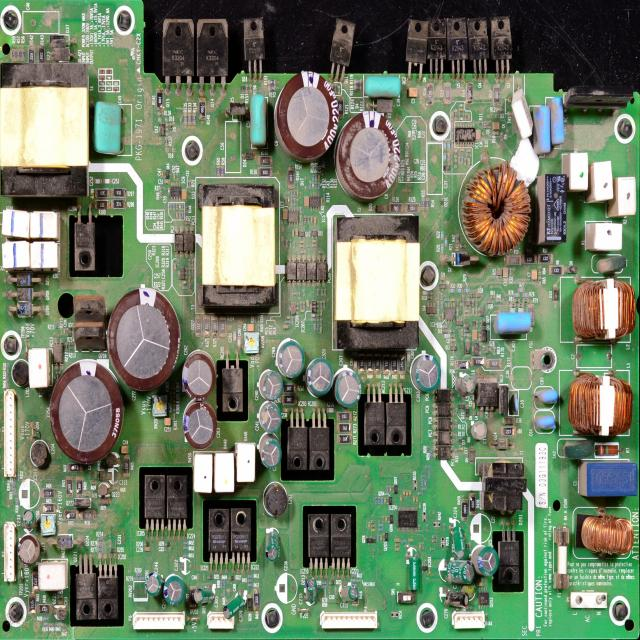Capacitor Jumper: (50, 365, 120, 463), (110, 287, 178, 385), (274, 73, 338, 159), (340, 108, 395, 192), (538, 170, 569, 248), (578, 461, 638, 498), (93, 100, 131, 153), (182, 398, 217, 447), (182, 353, 214, 397), (412, 352, 440, 392), (275, 340, 303, 378), (334, 368, 361, 407), (532, 104, 553, 154), (546, 96, 566, 147), (249, 92, 267, 148), (491, 313, 530, 337), (365, 74, 402, 98), (307, 359, 332, 393), (258, 400, 281, 435), (16, 533, 39, 566), (473, 547, 499, 575), (260, 372, 284, 402), (261, 434, 281, 470), (163, 573, 184, 606), (448, 558, 473, 584), (264, 526, 280, 563), (454, 122, 476, 148), (223, 596, 245, 621), (408, 557, 423, 593), (448, 590, 471, 611), (452, 526, 466, 560), (535, 389, 556, 409), (144, 572, 162, 595), (534, 415, 557, 432), (339, 584, 358, 604), (196, 587, 216, 606), (305, 577, 318, 604), (472, 422, 488, 442), (461, 375, 476, 396), (23, 509, 36, 529), (510, 392, 519, 418), (462, 581, 474, 597), (120, 442, 130, 456), (162, 416, 173, 427), (303, 195, 311, 210), (181, 185, 187, 202), (281, 208, 289, 220), (502, 267, 509, 279), (471, 330, 478, 341), (172, 262, 178, 274), (531, 270, 537, 280), (458, 446, 466, 453), (458, 436, 463, 447), (144, 547, 151, 552), (440, 276, 445, 282)
IC: (330, 513, 354, 582), (308, 510, 332, 577), (166, 470, 189, 539), (142, 473, 166, 528), (230, 506, 250, 568), (207, 505, 228, 563), (476, 379, 497, 411), (396, 506, 419, 530), (443, 303, 456, 324), (287, 206, 299, 227), (170, 182, 182, 202), (311, 193, 322, 212), (426, 301, 438, 317), (310, 300, 318, 316), (290, 300, 296, 318)
Resistor Jumper: (40, 486, 59, 500), (257, 154, 274, 169), (155, 88, 165, 113), (365, 354, 375, 378), (286, 166, 296, 190), (252, 587, 261, 613), (596, 445, 618, 455), (193, 314, 202, 338), (256, 167, 275, 178), (202, 313, 210, 339), (374, 354, 382, 380), (62, 508, 78, 521), (492, 84, 501, 107), (121, 456, 131, 476), (426, 82, 434, 107), (505, 257, 523, 268), (390, 202, 404, 216), (337, 433, 352, 446), (382, 354, 390, 378), (282, 382, 298, 394), (281, 393, 297, 405), (336, 411, 352, 423), (469, 493, 477, 517), (31, 570, 39, 594), (211, 313, 218, 340), (337, 422, 354, 433), (536, 253, 553, 264), (219, 315, 227, 338), (406, 202, 420, 215), (357, 355, 366, 375), (41, 502, 56, 514), (28, 594, 37, 614), (96, 199, 111, 211), (198, 98, 206, 120), (399, 353, 406, 377), (444, 84, 452, 105), (523, 254, 538, 265), (64, 477, 72, 497), (36, 604, 52, 614), (487, 358, 501, 369), (391, 356, 398, 378), (408, 86, 419, 100), (96, 188, 110, 199), (111, 188, 125, 199), (549, 266, 564, 276), (462, 499, 468, 523), (28, 44, 36, 62), (112, 199, 125, 210), (77, 477, 84, 496), (465, 83, 472, 102), (502, 426, 515, 436), (472, 357, 485, 366), (39, 46, 45, 65), (457, 361, 470, 369), (11, 46, 17, 61), (492, 121, 501, 131), (424, 196, 430, 211), (220, 164, 226, 178), (16, 45, 21, 61), (419, 198, 425, 210), (20, 48, 25, 59), (183, 113, 188, 124), (217, 164, 221, 177), (192, 113, 196, 125), (188, 113, 192, 125), (440, 243, 444, 254), (517, 287, 524, 293), (427, 290, 433, 297), (523, 297, 530, 303), (518, 302, 525, 308), (510, 304, 517, 310), (493, 346, 497, 356), (440, 230, 444, 240), (522, 292, 530, 296), (449, 333, 455, 338), (445, 236, 448, 246), (514, 292, 519, 298), (514, 298, 520, 303), (427, 295, 432, 300), (448, 329, 454, 333), (65, 342, 68, 349)
Transistor: (194, 20, 228, 95), (161, 19, 195, 91), (404, 19, 428, 82), (492, 17, 513, 87), (428, 20, 448, 88), (242, 23, 265, 82), (467, 20, 487, 86), (447, 19, 467, 81), (331, 35, 352, 85), (476, 587, 491, 609), (158, 124, 168, 138), (473, 340, 481, 357), (479, 328, 487, 342), (310, 229, 318, 242), (297, 228, 305, 240), (455, 318, 464, 327), (449, 343, 458, 351)
